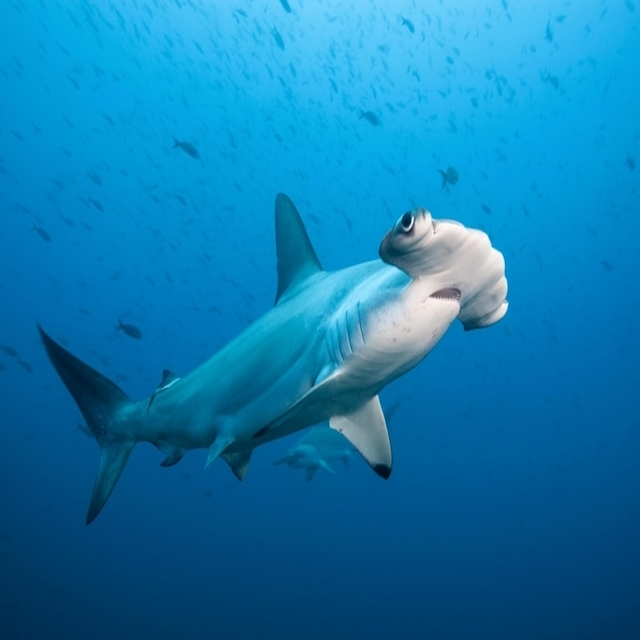hammerhead: (52, 187, 502, 507)
